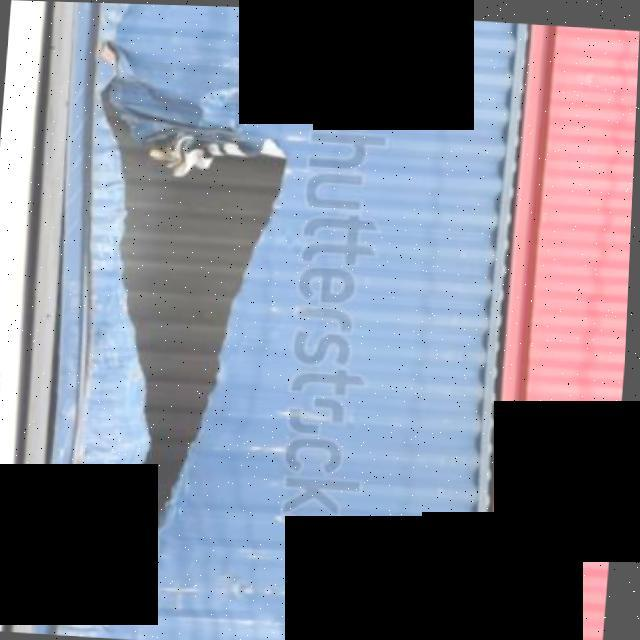hole: (64, 32, 303, 542)
